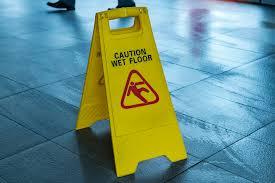wet caution sign: (69, 7, 184, 166)
